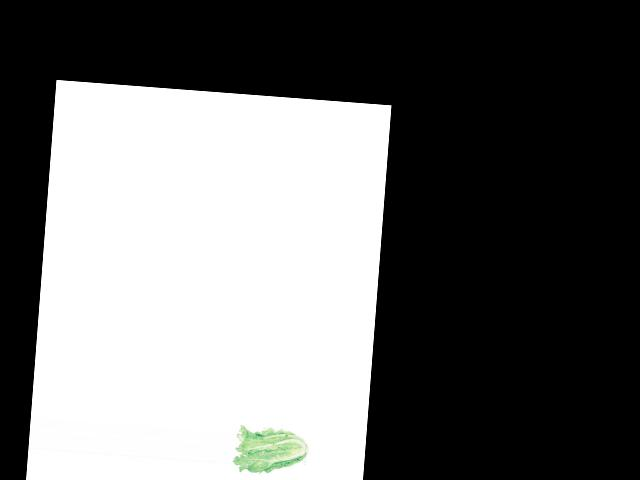lettuce: (232, 423, 308, 477)
